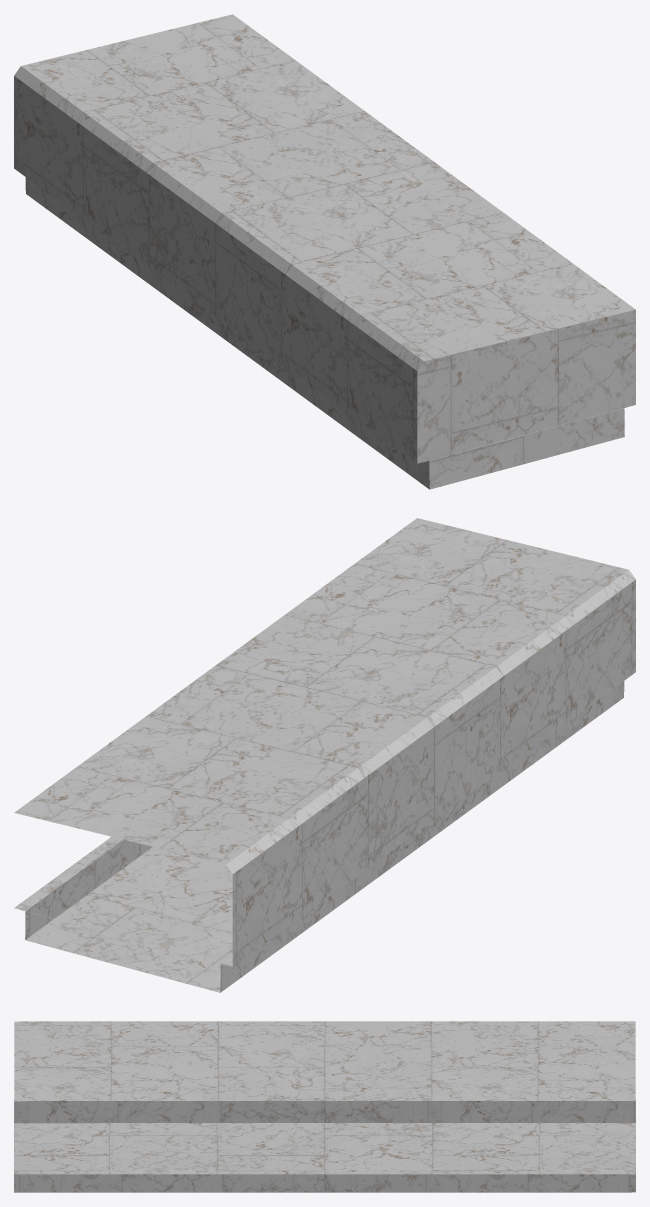
File: Wall_12c85317.obj
The picture shows the model from 3 angles, top to bottom: view 1: azimuth 30°, elevation 25°; view 2: azimuth 150°, elevation 25°; view 3: azimuth 270°, elevation 25°; orthographic projection. The views are drawn at different scales.
Visible parts, largest first — view 1: Wall_12c85317; view 2: Wall_12c85317; view 3: Wall_12c85317.
Boxes of the visible parts, box(x1,y1,x2,y2) form: Wall_12c85317: box(14, 14, 635, 489); Wall_12c85317: box(14, 518, 635, 992); Wall_12c85317: box(14, 1021, 635, 1192).
Size of the model in its own units: 0.4684 by 0.2653 by 1.5.
